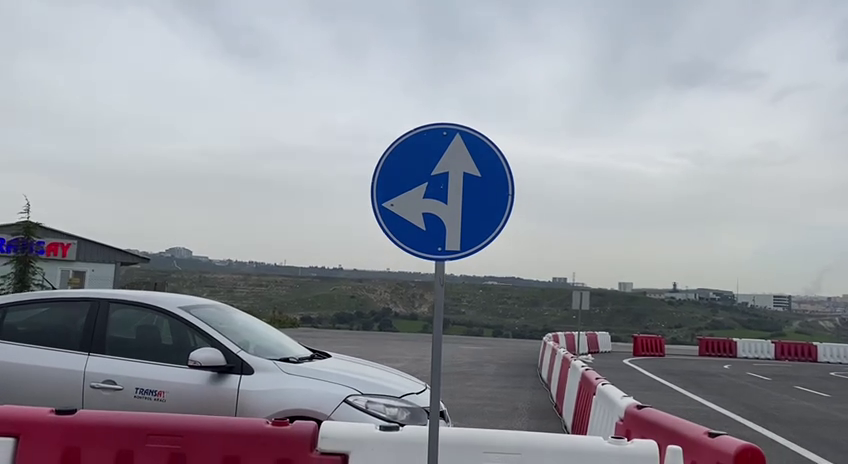forwardAndLeft: (367, 120, 519, 265)
